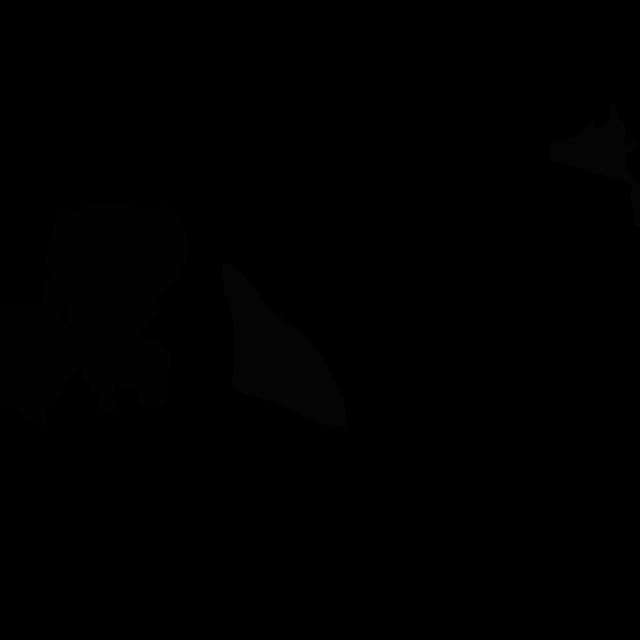cardboard: (45, 200, 189, 413), (0, 279, 85, 428)
soft_plastic: (222, 261, 346, 428), (549, 102, 640, 228)
